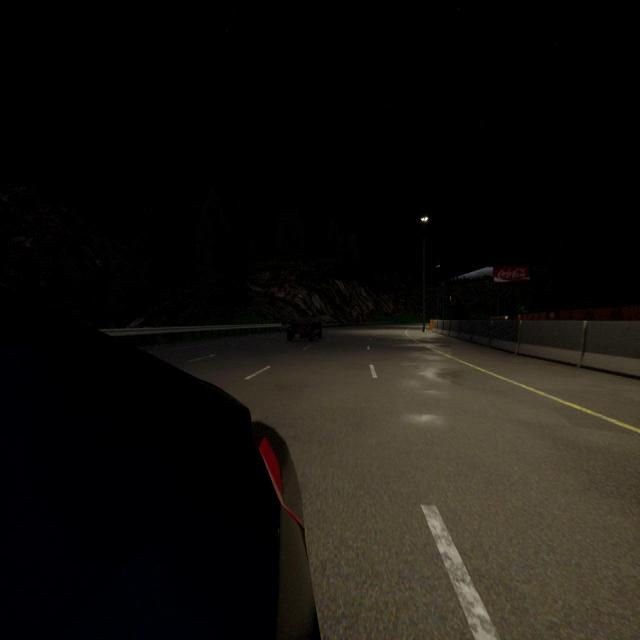Traffic_Signs: (550, 312, 554, 318)
Vehicle: (0, 313, 321, 640), (287, 314, 321, 346)
